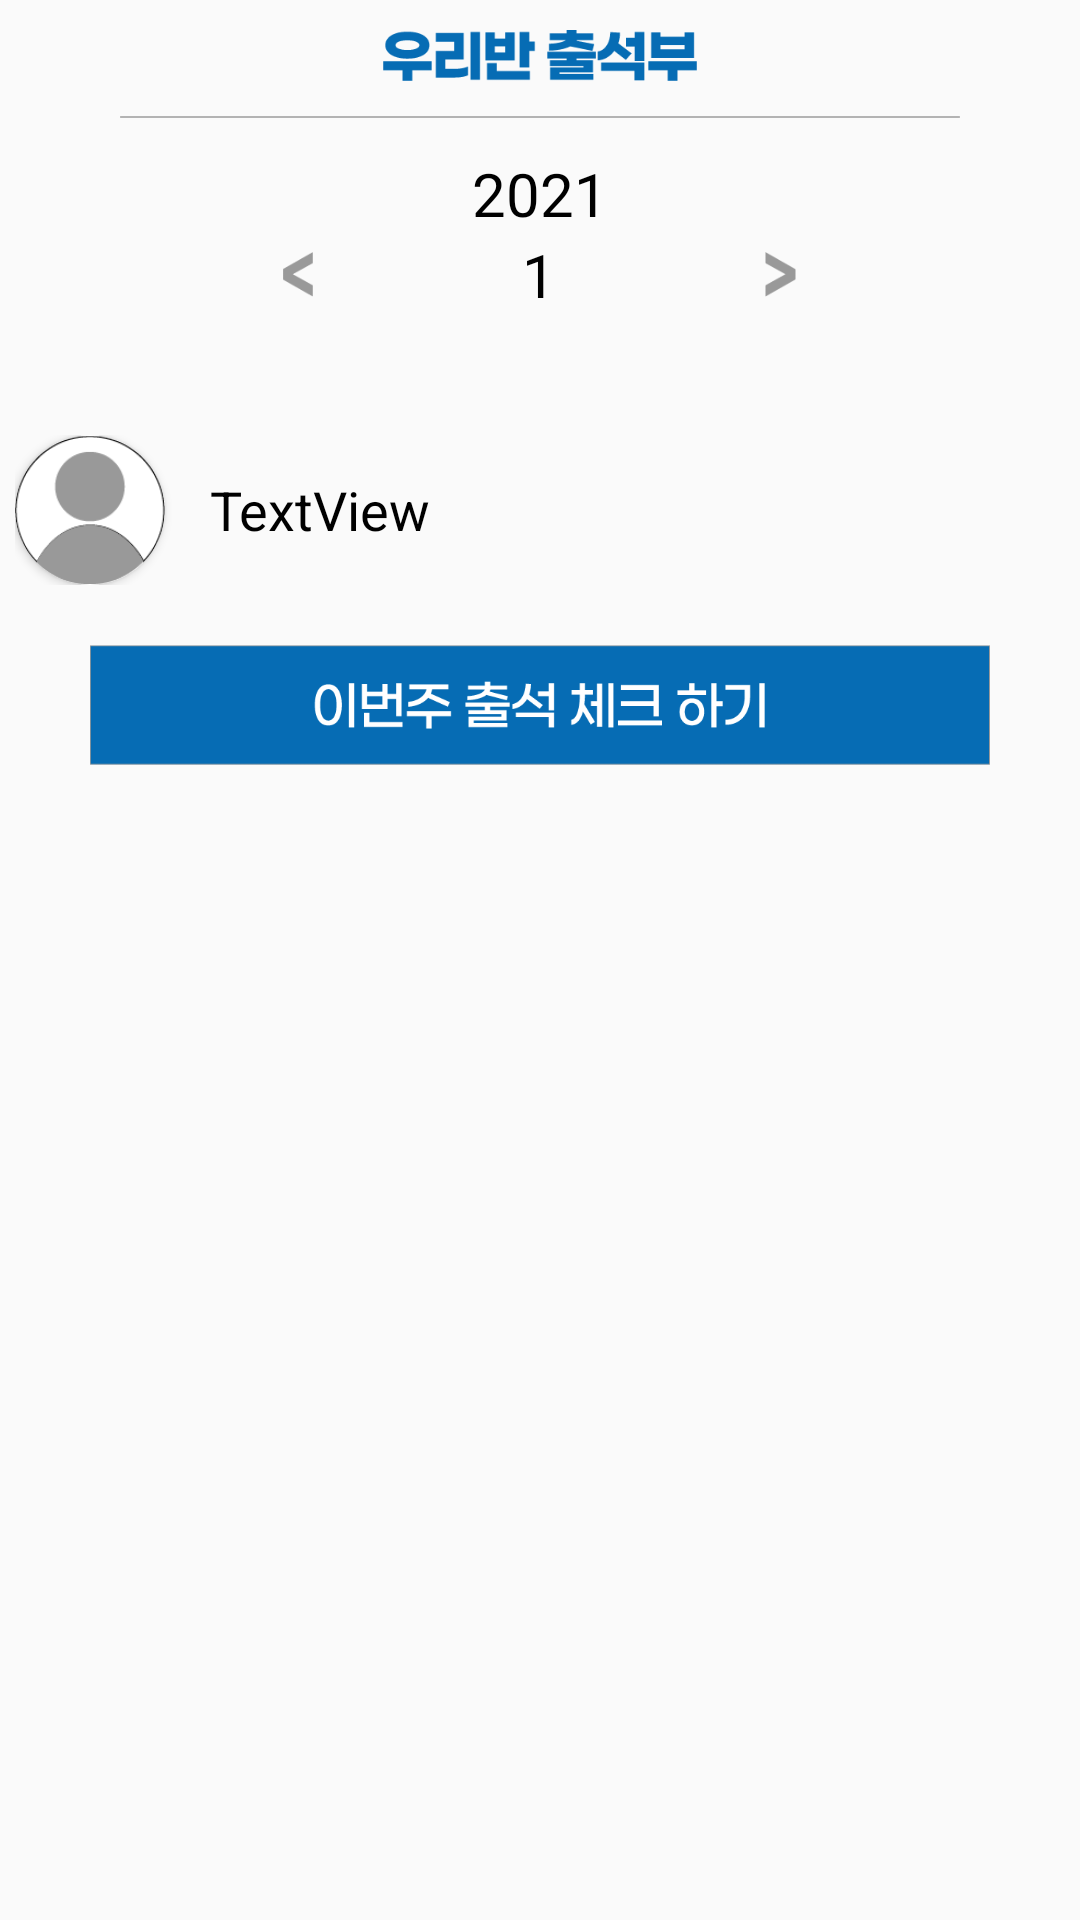

Named icons in this screenshot (1080*1920) and their bounding boxes, (x1, y1, x2, y2):
arrow left: (283, 252, 313, 296)
arrow right: (765, 252, 796, 296)
profileimage: (15, 436, 165, 585)
